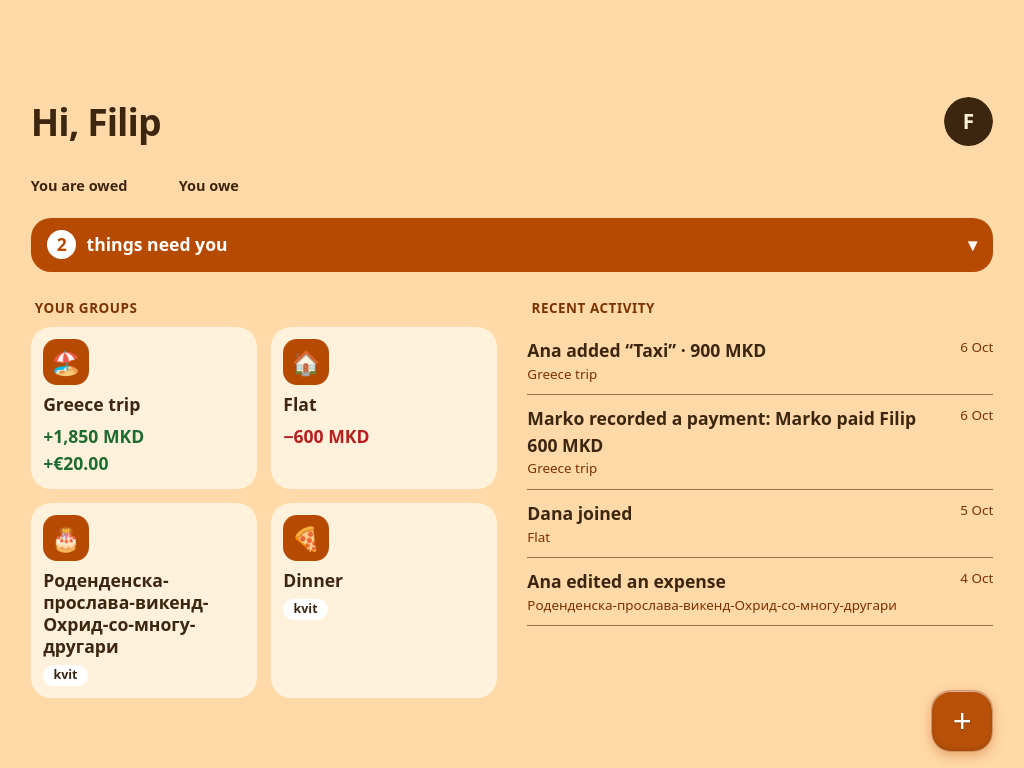
Test: a closing card › Object › shows the translated error inside the sheet and keeps it open when the server refuses
Expected: the heading "Your groups" is shown, [35, 299, 137, 317]
Click the button "2 things need you ▾".
click(157, 244)  # box [31, 218, 993, 272]
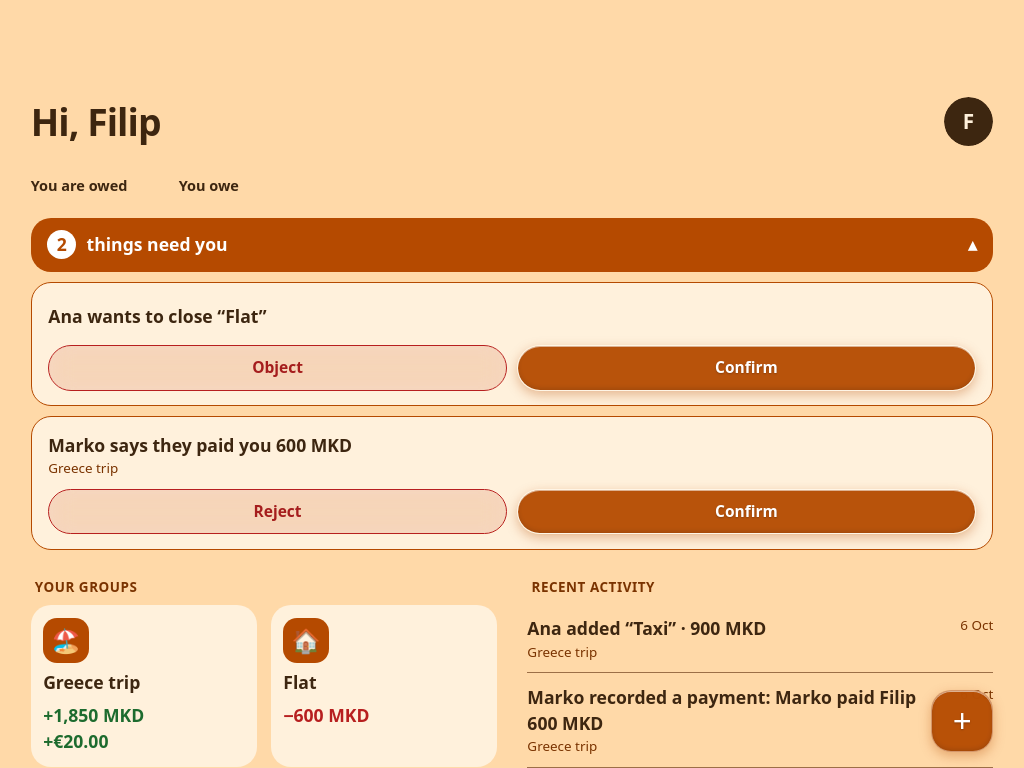
Click the button "Object".
click(278, 368)  # box [48, 345, 507, 390]
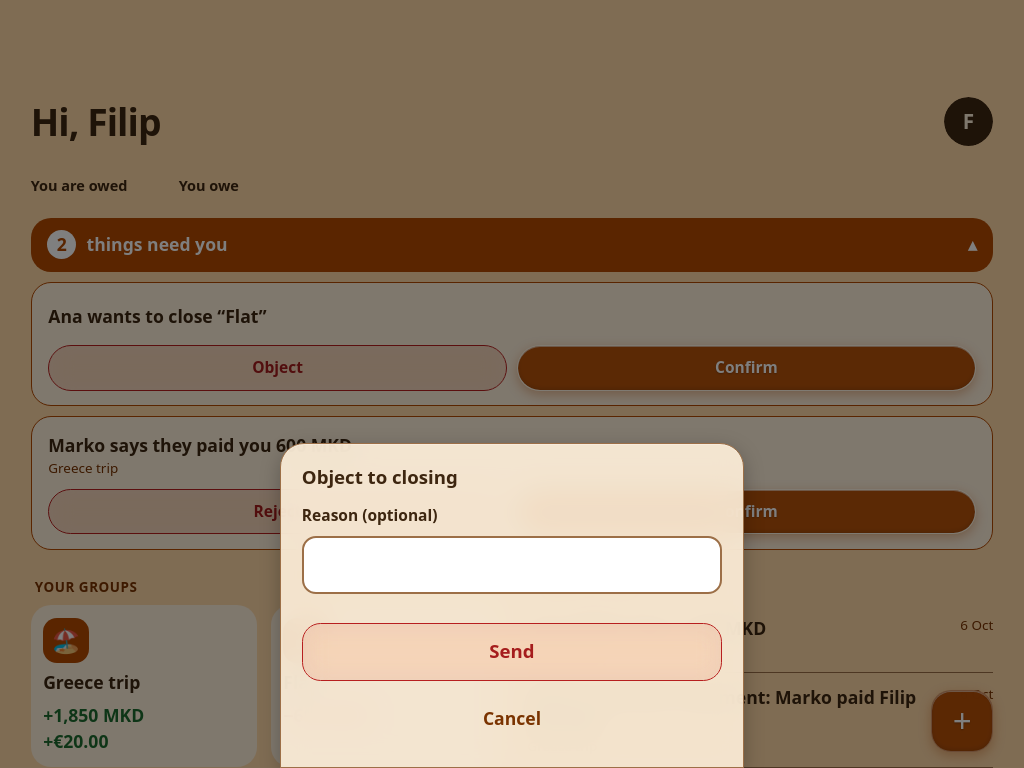
Click the button "Send".
click(512, 652)  # box [302, 623, 722, 681]
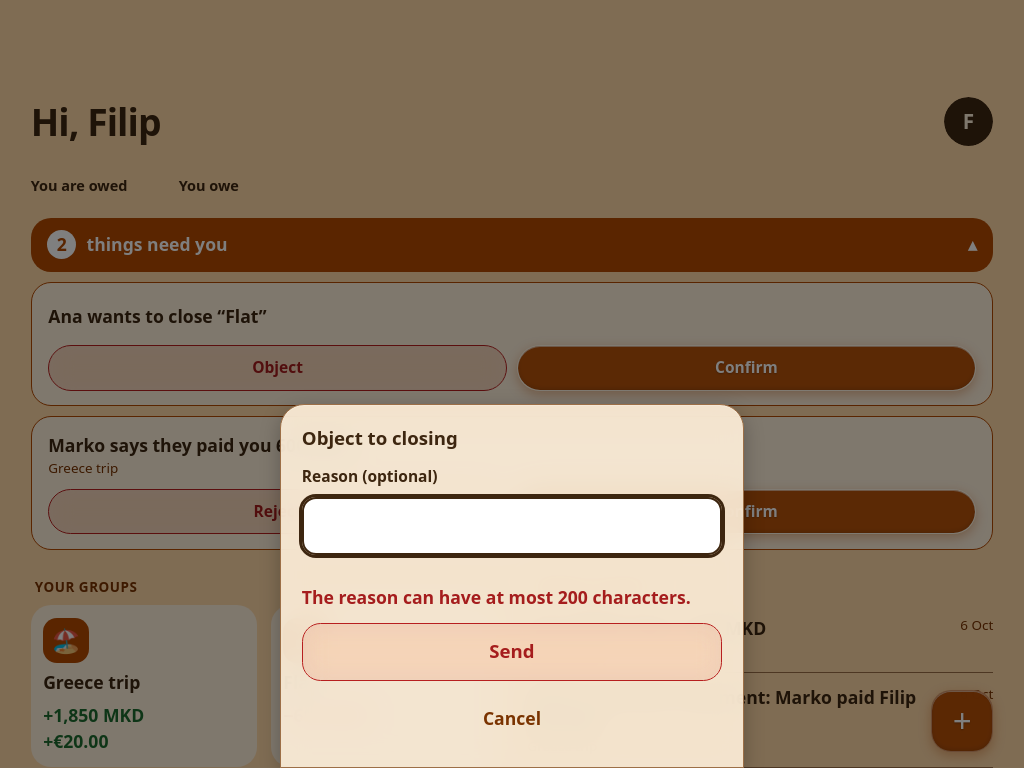
Now the dialog is shown, box [280, 404, 744, 767]
Now the message reads "The reason can have at most 200 characters.", box [302, 585, 691, 609]
